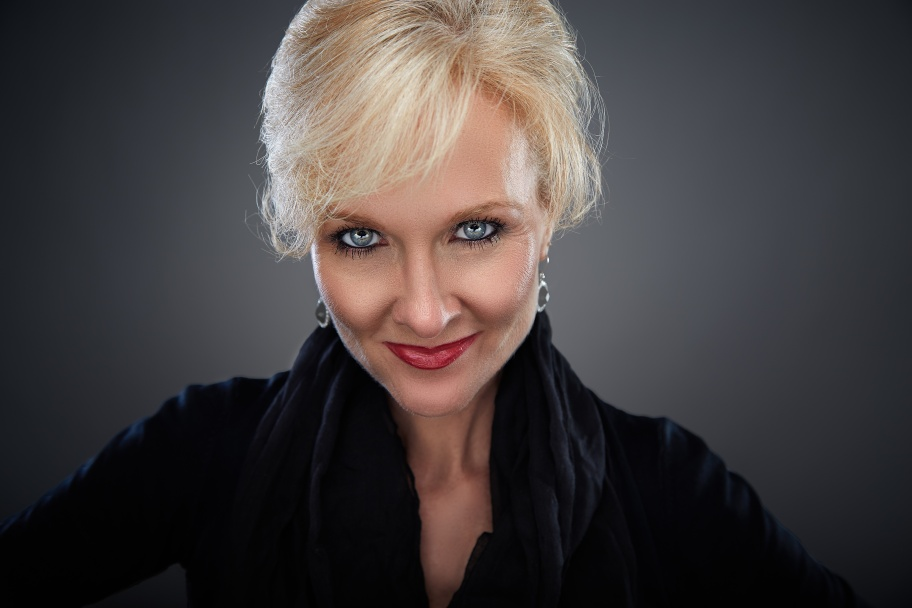Forehead: (313, 93, 536, 223)
